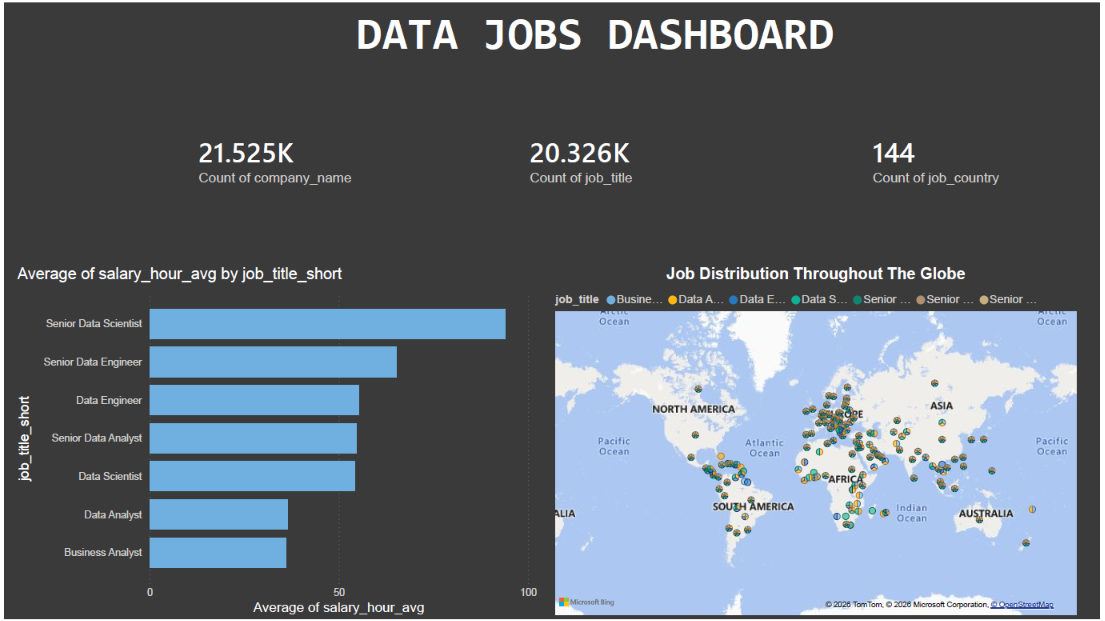

What the dashboard file says about the page in this screenshot:
{"tool":"powerbi","page":{"name":"Page 1","canvas":[1280,720],"ordinal":0},"visuals":[{"type":"barChart","fields":{"Y":["Avg(Sheet1.salary_hour_avg)"],"Category":["Sheet1.job_title_short"]},"box":[9.6,306,618.9,414.4],"z":0},{"type":"map","title":"Job Distribution Throughout The Globe","fields":{"Category":["Sheet1.job_country"],"Series":["Sheet1.job_title_short"]},"box":[639,306,619,414],"z":1000},{"type":"textbox","box":[9.7,0,1173.9,88.1],"z":2000},{"type":"cardVisual","fields":{"Data":["Count(Sheet1.company_name)"]},"box":[196.6,117,275.1,130.3],"z":3000},{"type":"cardVisual","fields":{"Data":["Count(Sheet1.job_title)"]},"box":[584.4,88.4,285.1,188.2],"z":3001},{"type":"cardVisual","fields":{"Data":["Count(Sheet1.job_country)"]},"box":[984.9,88.4,239.5,188.2],"z":3002}]}

Visuals, with their boxes in screenshot pixels (x1, y1, x2, y2), scaled from the page's 1280x720 canvas onto the 1105x621 screenshot:
barChart - Avg(Sheet1.salary_hour_avg) x Sheet1.job_title_short: detection(8, 264, 543, 620)
"Job Distribution Throughout The Globe" map: detection(552, 264, 1086, 620)
textbox: detection(8, 0, 1022, 76)
cardVisual - Count(Sheet1.company_name): detection(170, 101, 407, 213)
cardVisual - Count(Sheet1.job_title): detection(505, 76, 751, 239)
cardVisual - Count(Sheet1.job_country): detection(850, 76, 1057, 239)
